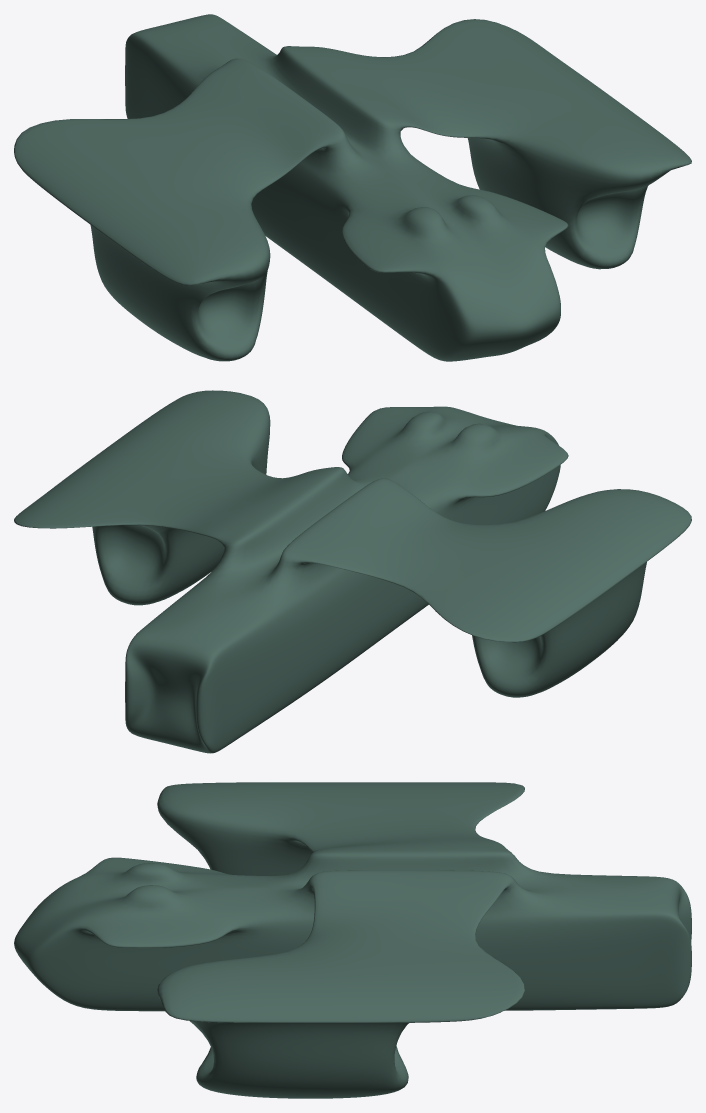
The model's file is Human Destroyer.fbx.
The picture shows the model from 3 angles, top to bottom: view 1: azimuth 30°, elevation 25°; view 2: azimuth 150°, elevation 25°; view 3: azimuth 270°, elevation 25°; orthographic projection. The views are drawn at different scales.
Visible parts, largest first — view 1: Human Destroyer; view 2: Human Destroyer; view 3: Human Destroyer.
Boxes of the visible parts, x1=… form: Human Destroyer: x1=14, y1=14, x2=691, y2=361; Human Destroyer: x1=14, y1=390, x2=691, y2=753; Human Destroyer: x1=14, y1=782, x2=691, y2=1098.
Size of the model in its own units: 9.49 by 2.7 by 11.4.
